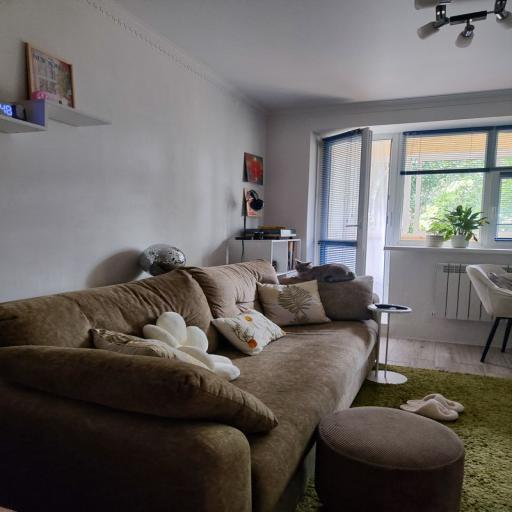bus: (466, 255, 512, 364)
corridor: (312, 128, 376, 280)
sidewalk: (0, 252, 386, 511)
